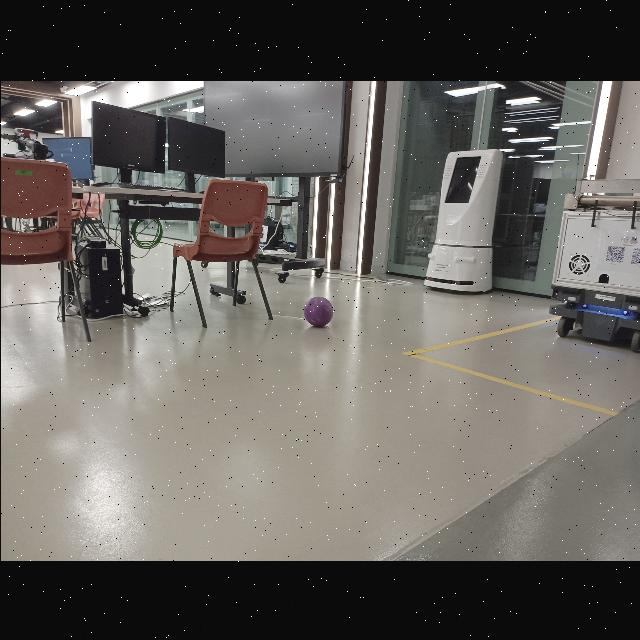P: (302, 296, 336, 328)
